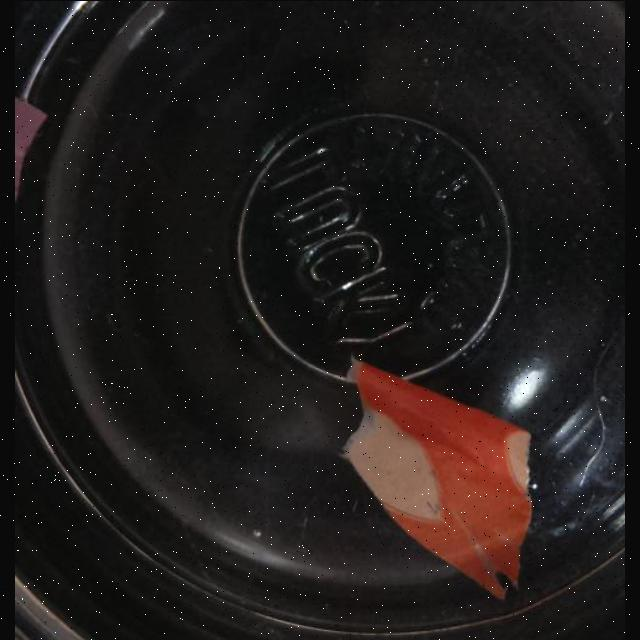Fragment: (342, 356, 534, 594), (15, 88, 47, 198)
